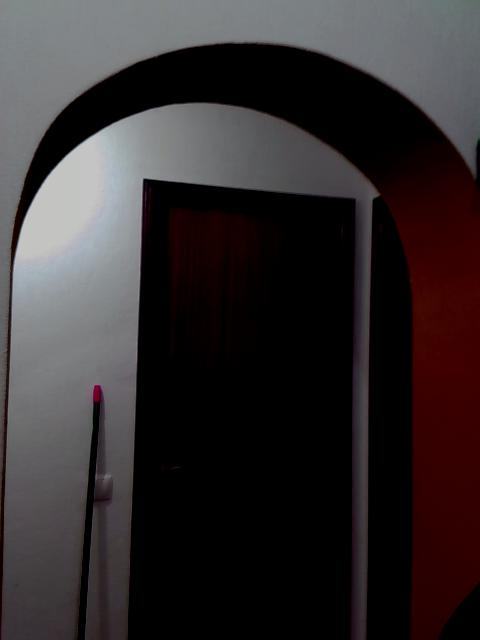closed_door: (128, 176, 355, 639)
